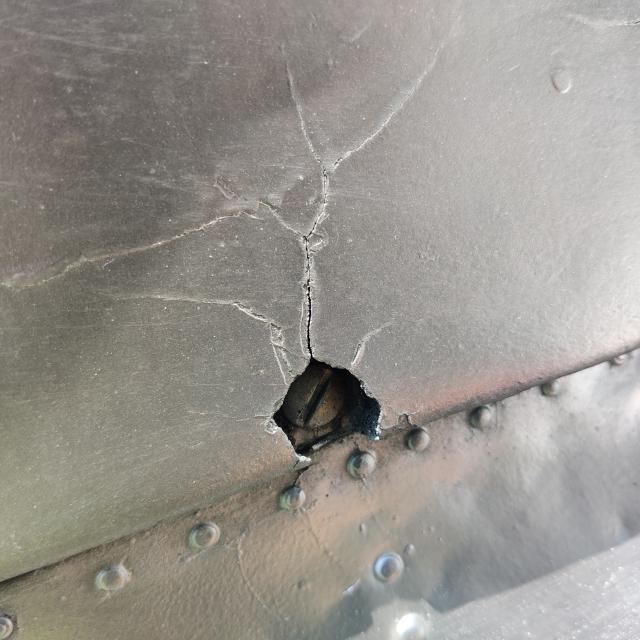crack: (228, 216, 435, 506)
